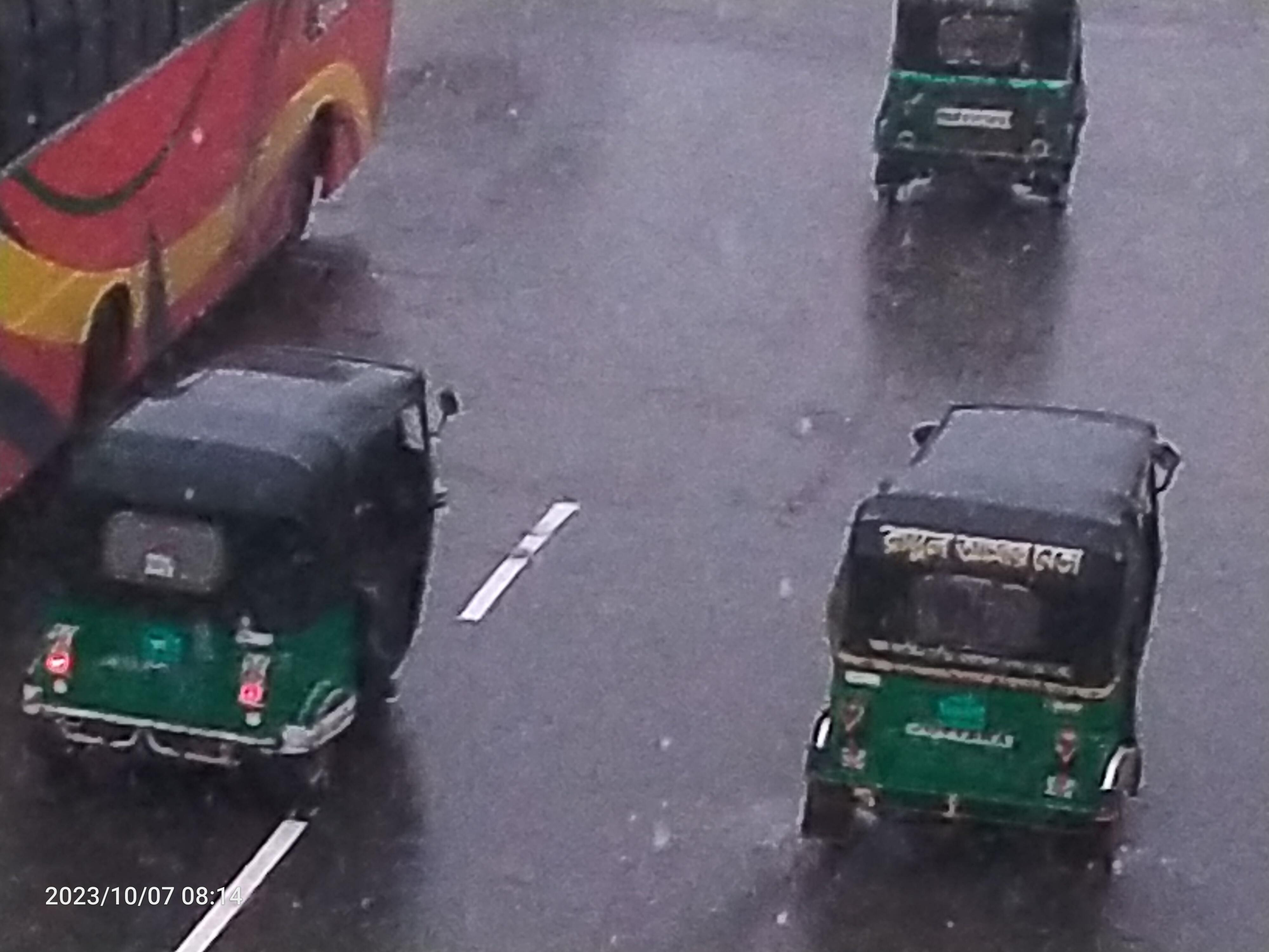Bus: (0, 0, 393, 459)
